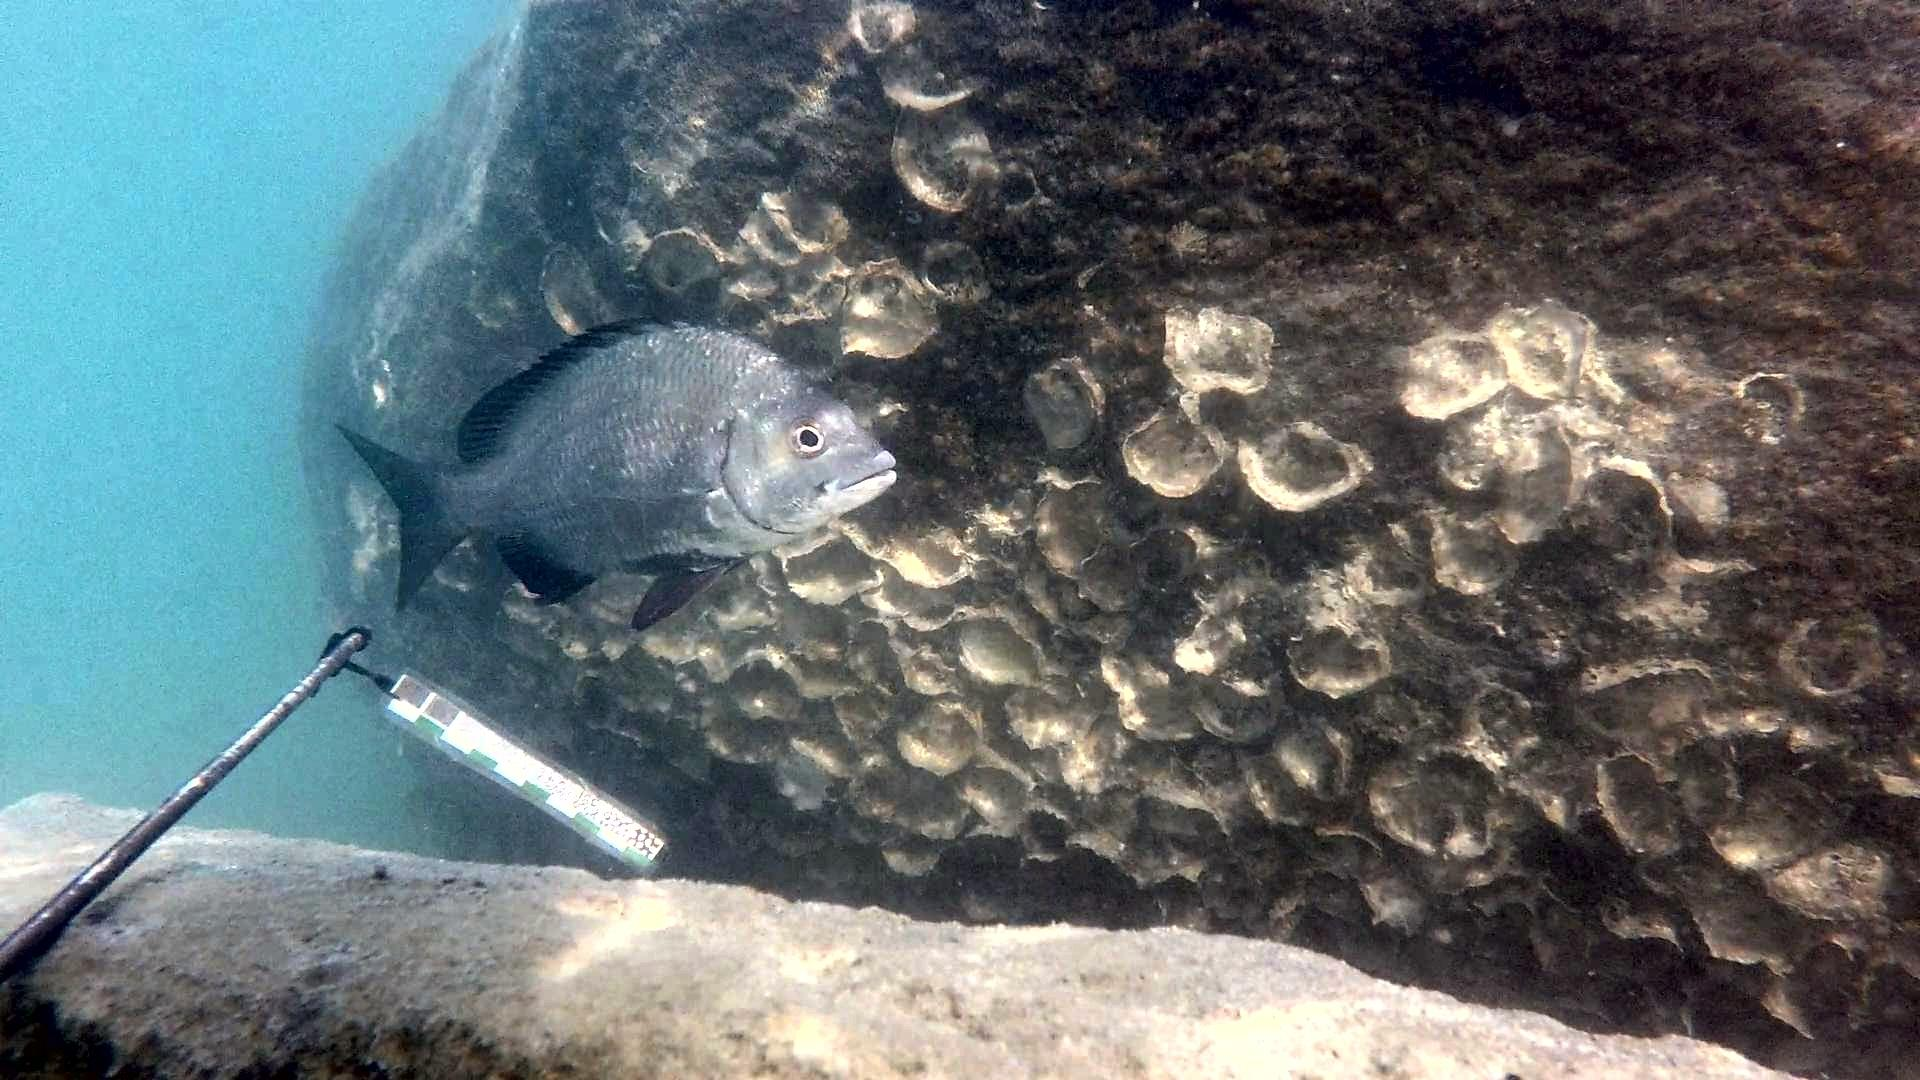acanthopagrus palmaris: (327, 309, 902, 638)
